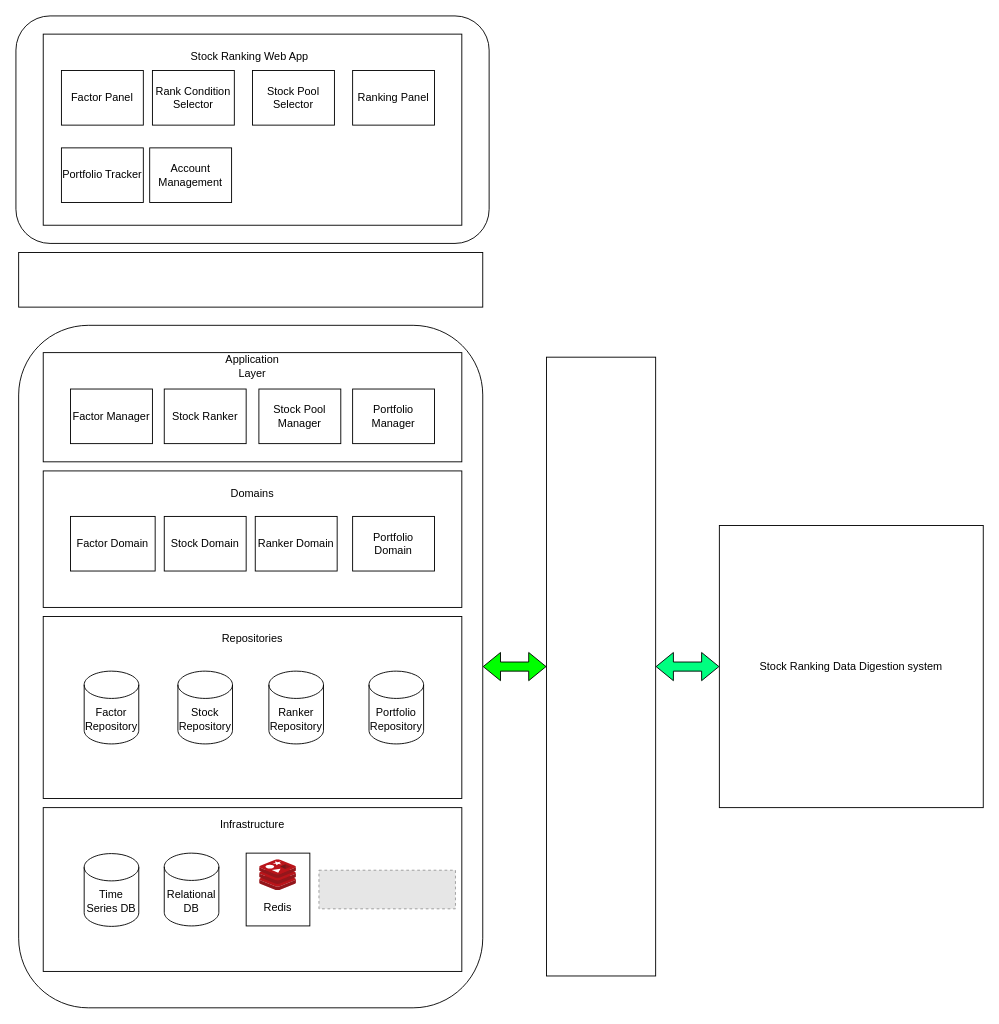
The diagram is 999 pixels wide and 1024 high, and some of its shapes have lost their labels. Grey dashed boxes stand in for pictures. Each missing label, with the box of its shape:
API Gateway: (18, 252, 483, 307)
Query System External Interface Manager: (546, 356, 656, 976)
